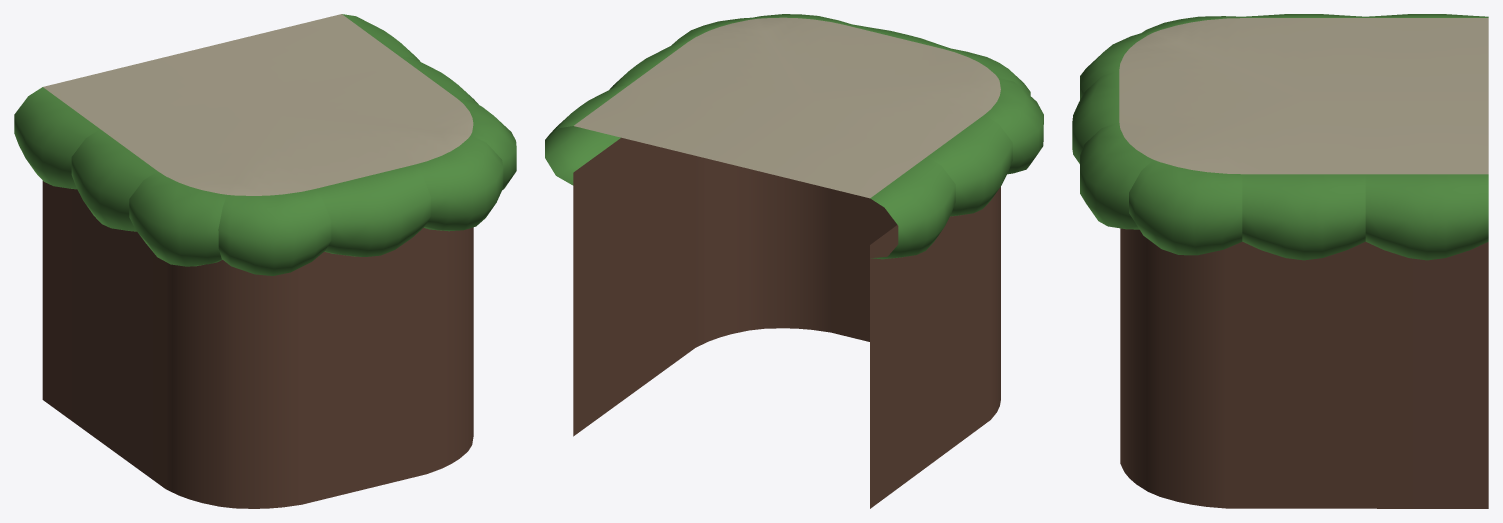
The model's file is ForestTile_ThreeSidedEdge.fbx.
3 views of the same model, side by side, from view 1: azimuth 30°, elevation 25°; view 2: azimuth 150°, elevation 25°; view 3: azimuth 270°, elevation 25° (orthographic). The views are drawn at different scales.
Visible parts, largest first — view 1: ForestTile_ThreeSidedEdge; view 2: ForestTile_ThreeSidedEdge; view 3: ForestTile_ThreeSidedEdge.
Boxes of the visible parts, box(x1,y1,x2,y2) form: ForestTile_ThreeSidedEdge: box(14, 14, 516, 508); ForestTile_ThreeSidedEdge: box(545, 14, 1043, 508); ForestTile_ThreeSidedEdge: box(1072, 14, 1488, 508).
Size of the model in its own units: 113 by 90 by 101.
